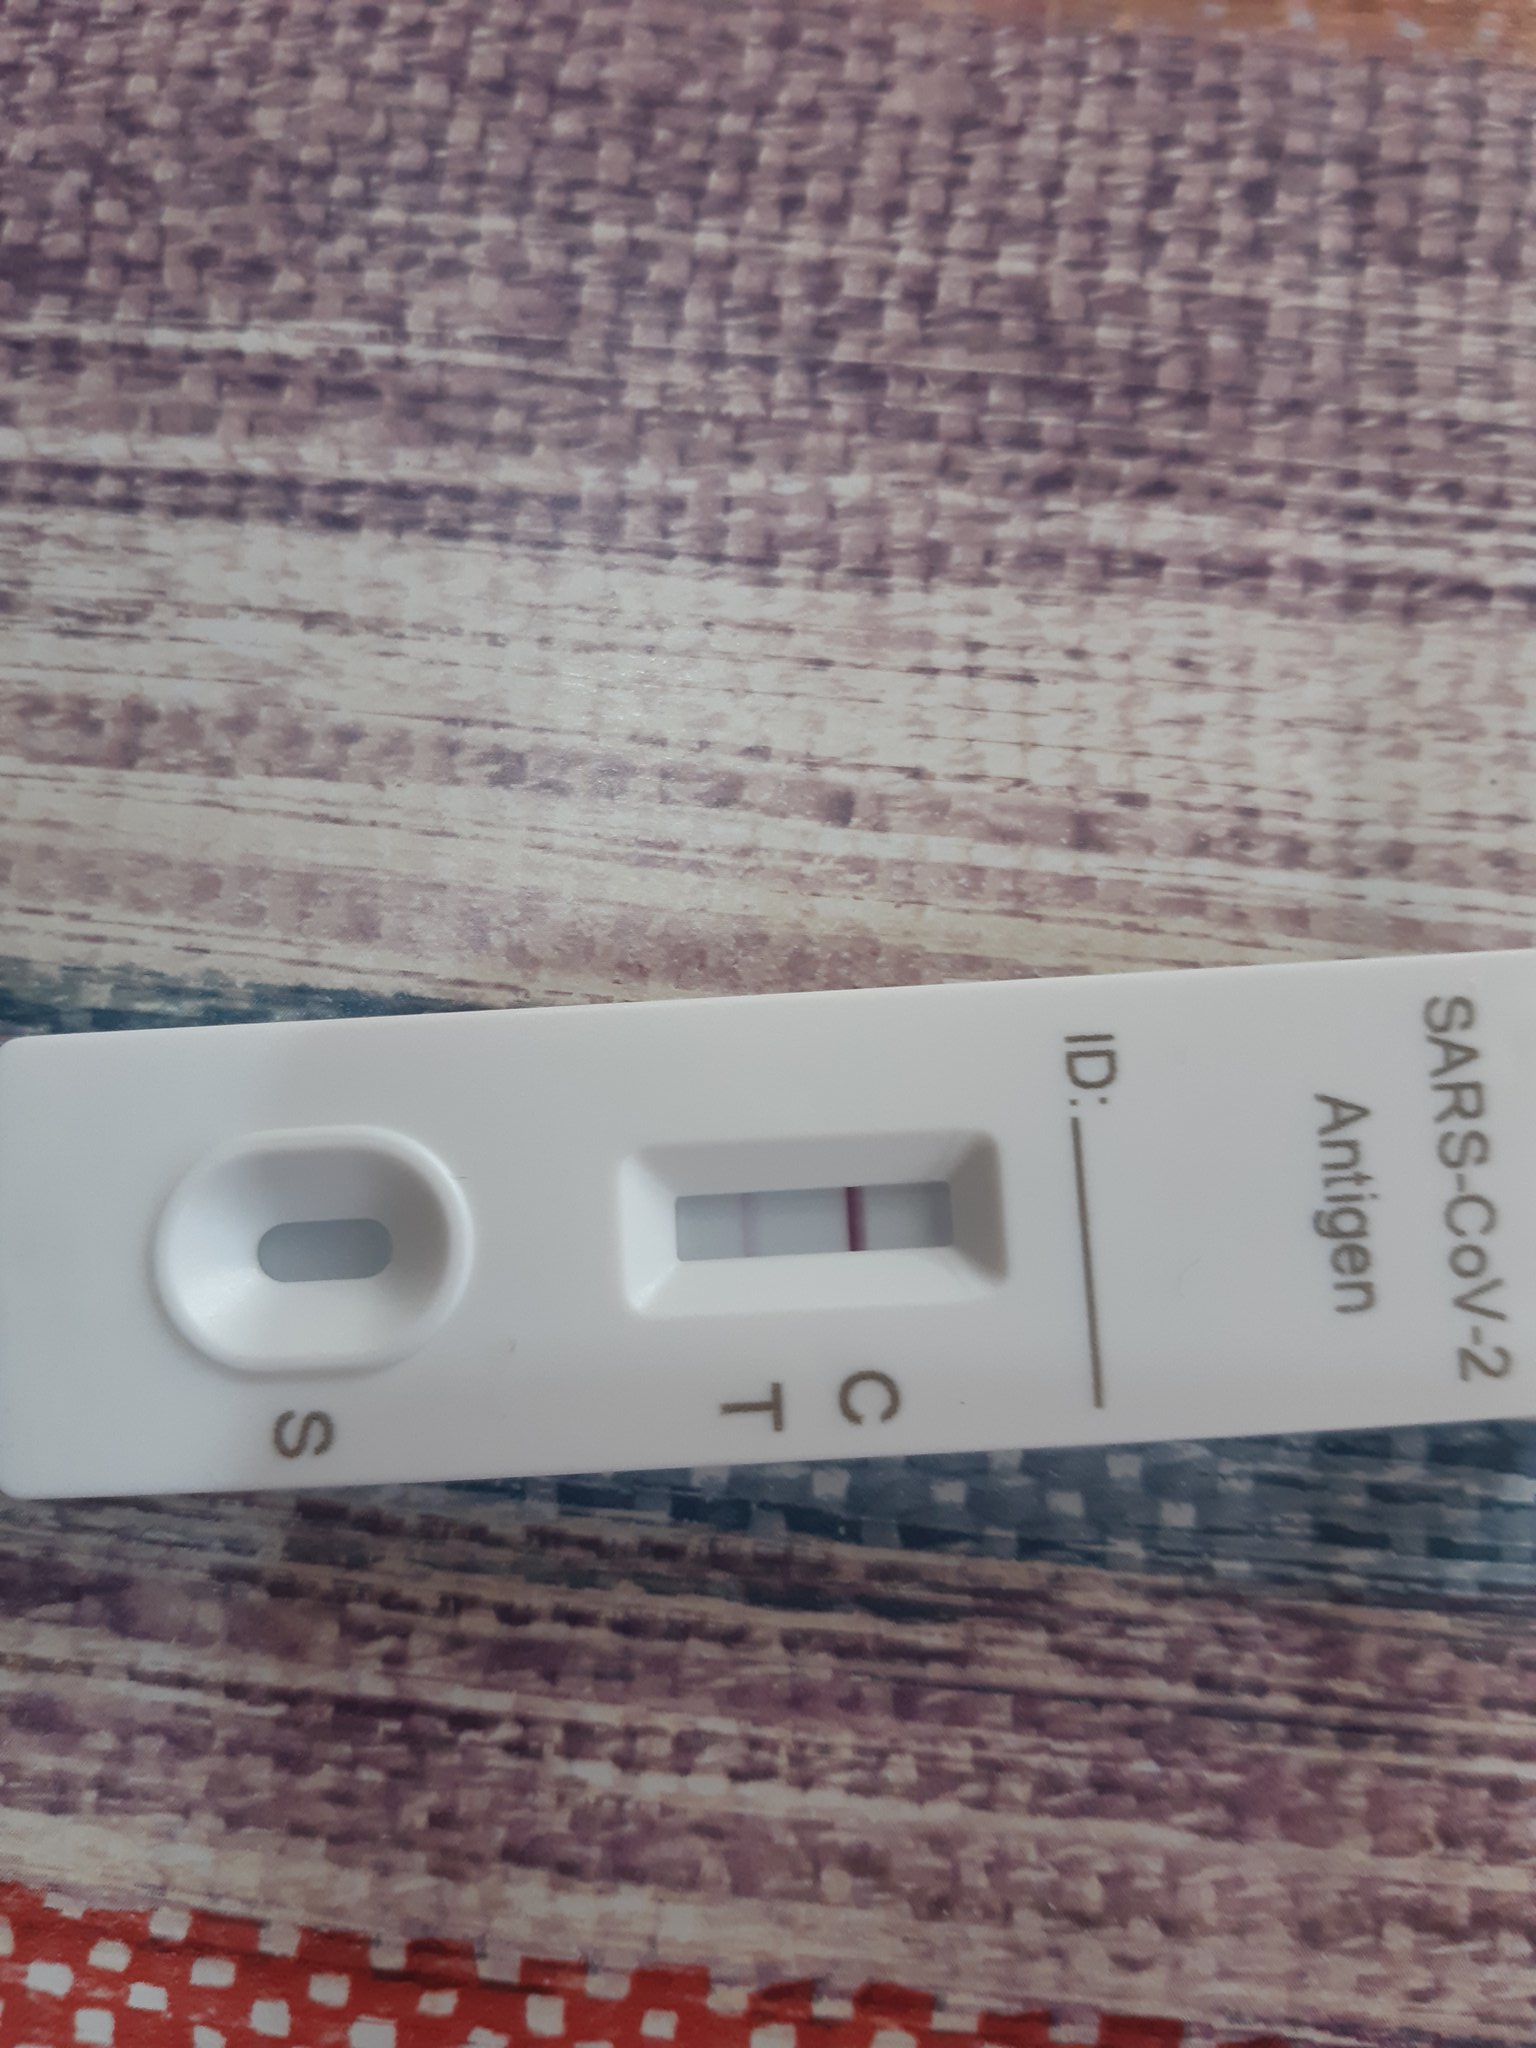positive: (599, 1134, 1007, 1292)
